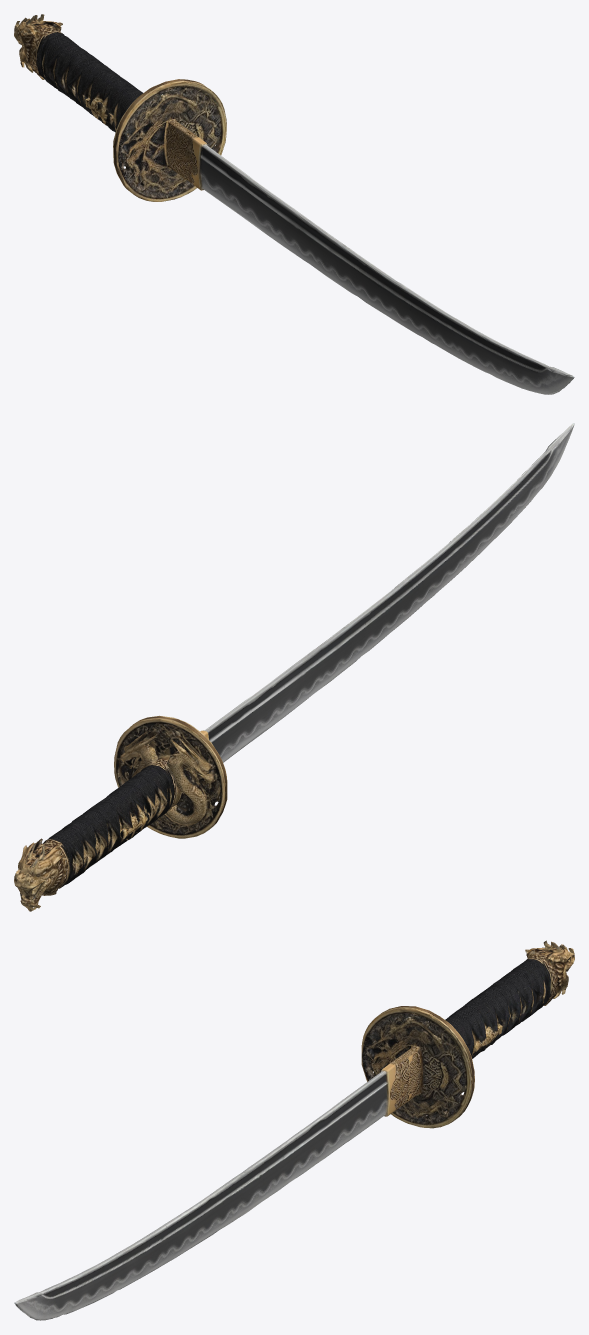
File: katana.high.glb
The picture shows the model from 3 angles, top to bottom: view 1: azimuth 30°, elevation 25°; view 2: azimuth 150°, elevation 25°; view 3: azimuth 330°, elevation 25°; orthographic projection.
Visible parts, largest first — view 1: model; view 2: model; view 3: model.
Part boxes in pixels (box(x1,y1,x2,y2)): model: box(14, 14, 574, 394); model: box(14, 423, 574, 911); model: box(14, 940, 574, 1320).
Size of the model in its own units: 0.1156 by 0.1179 by 1.
1 material, 1 textured.
